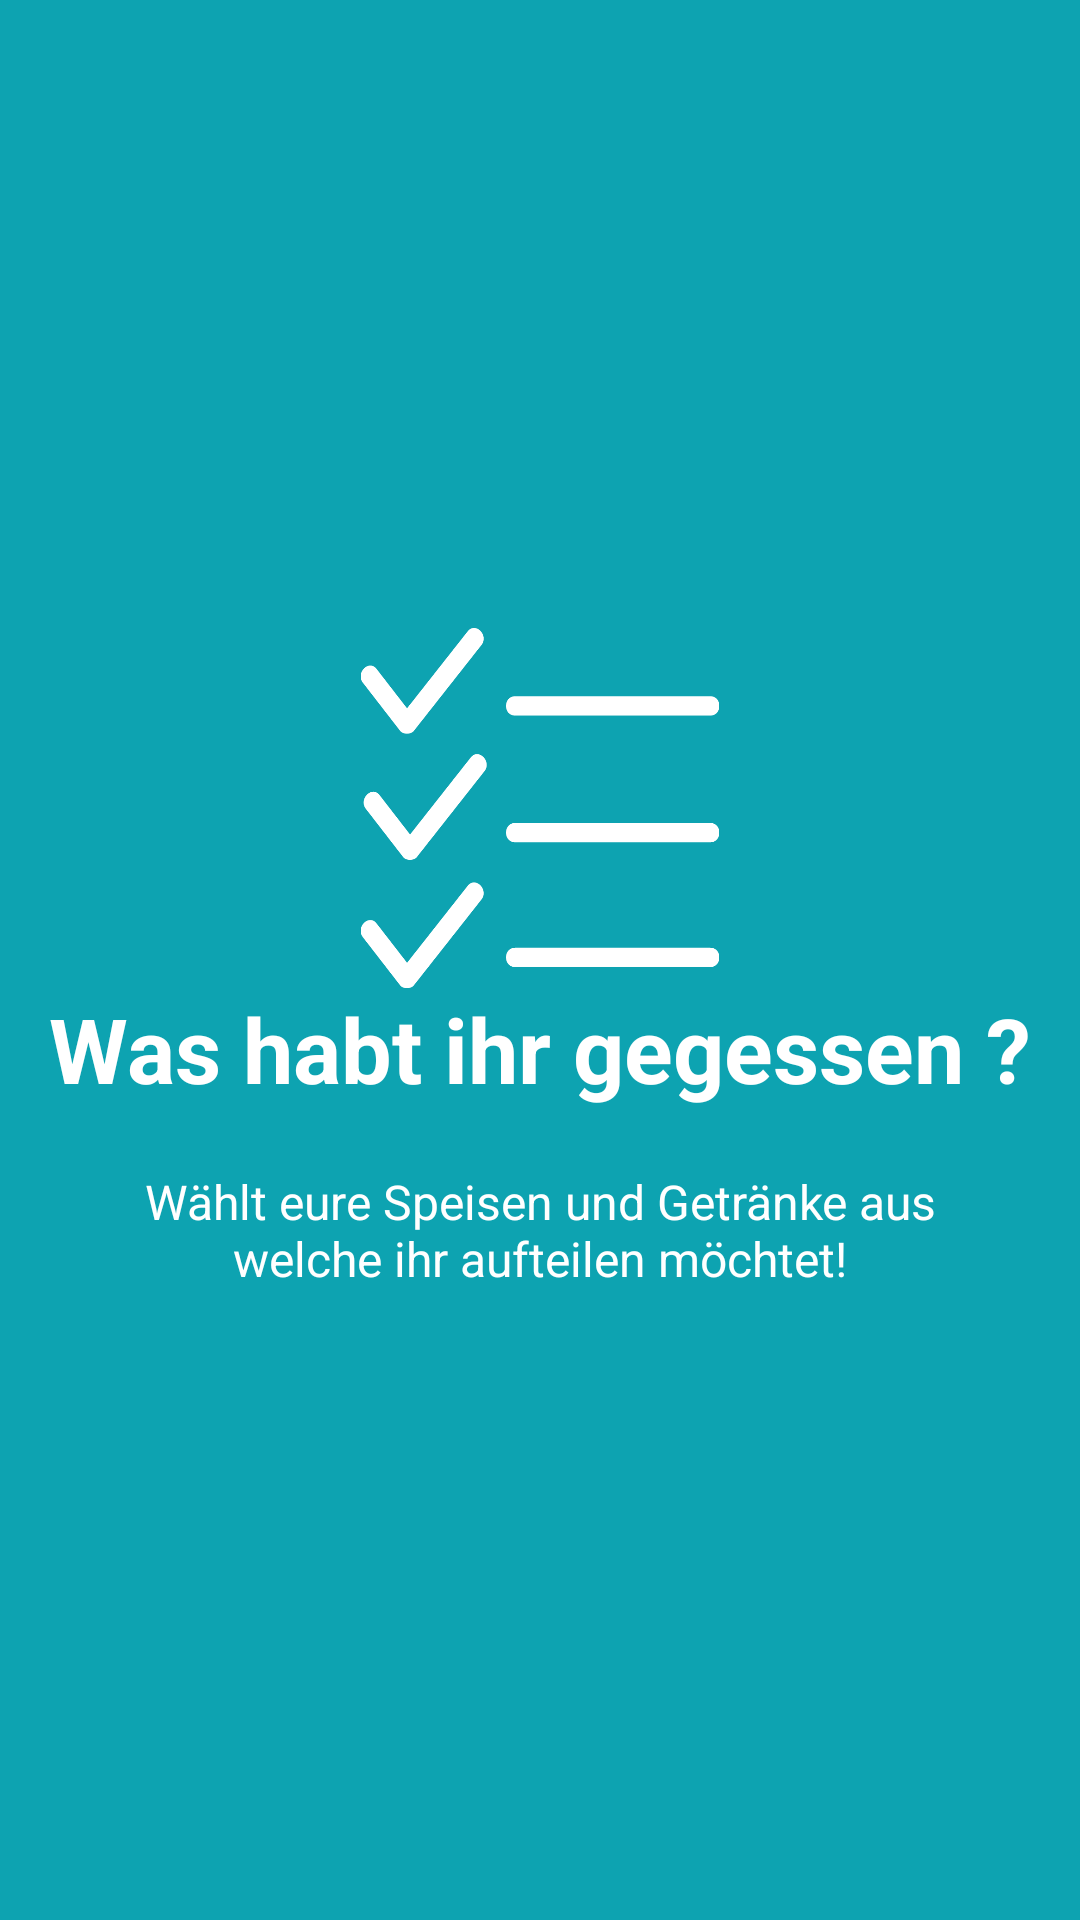

Icon click points for this 1080×1920 phone screenshot, format point (x, y):
select: point (540, 808)
